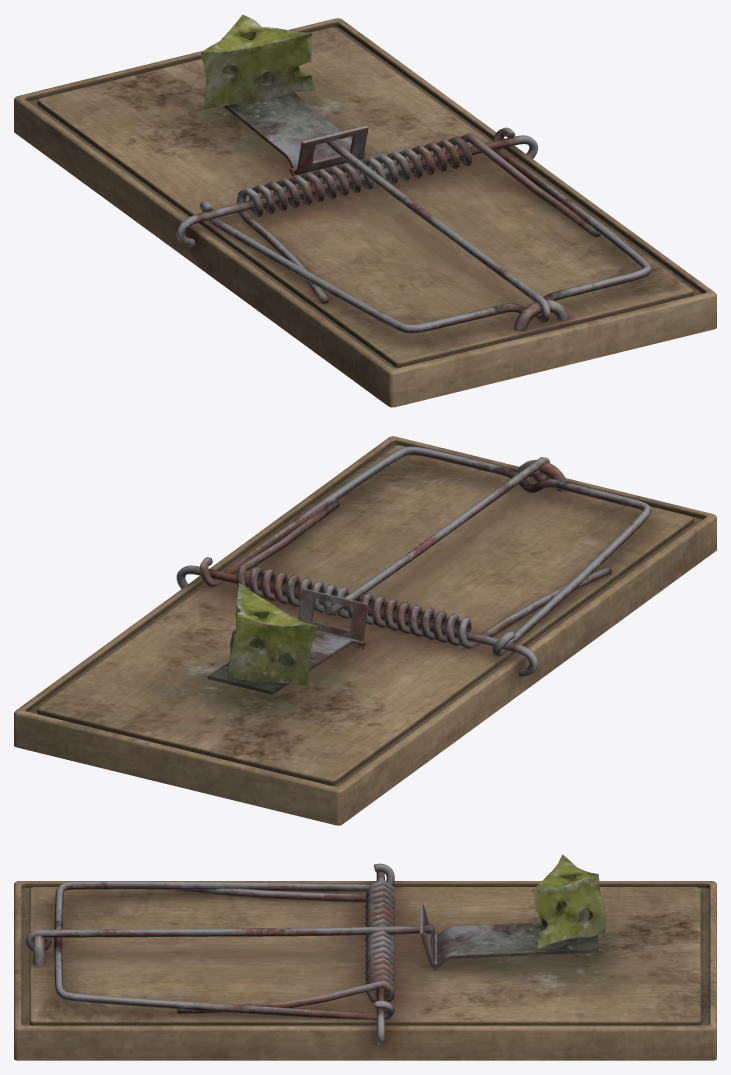
File: mousetrap.glb
The picture shows the model from 3 angles, top to bottom: view 1: azimuth 30°, elevation 25°; view 2: azimuth 150°, elevation 25°; view 3: azimuth 270°, elevation 25°; orthographic projection. The views are drawn at different scales.
Parts seen in each view (by area): view 1: mousetrap; view 2: mousetrap; view 3: mousetrap.
Part boxes in pixels (x1,y1,x2,y2): mousetrap: (14,14,716,407); mousetrap: (14,436,716,825); mousetrap: (14,854,716,1060).
Bounding box in the file's own units: 0.055 × 0.0179 × 0.1004.
1 material, 1 textured.
